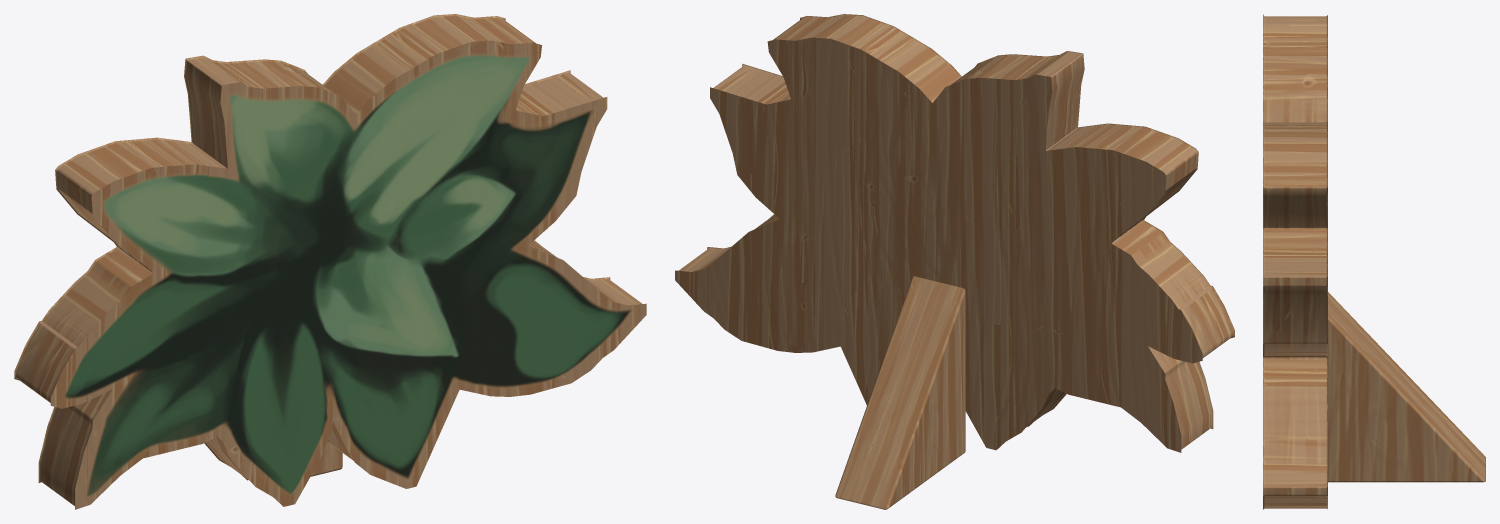
File: krzak_block.glb
3 views of the same model, side by side, from view 1: azimuth 30°, elevation 25°; view 2: azimuth 150°, elevation 25°; view 3: azimuth 270°, elevation 25° (orthographic). The views are drawn at different scales.
Visible parts, largest first — view 1: Krzak_WoodBlock; view 2: Krzak_WoodBlock, Krzak_RearBrace; view 3: Krzak_WoodBlock, Krzak_RearBrace.
Boxes of the visible parts, x1=… form: Krzak_WoodBlock: x1=14, y1=14, x2=646, y2=509; Krzak_WoodBlock: x1=675, y1=14, x2=1234, y2=452; Krzak_RearBrace: x1=835, y1=276, x2=965, y2=509; Krzak_WoodBlock: x1=1263, y1=14, x2=1327, y2=509; Krzak_RearBrace: x1=1328, y1=292, x2=1485, y2=482.
Bounding box in the file's own units: 1.21 × 0.8673 × 0.4369.
Materials: 2 (2 with a texture image).
